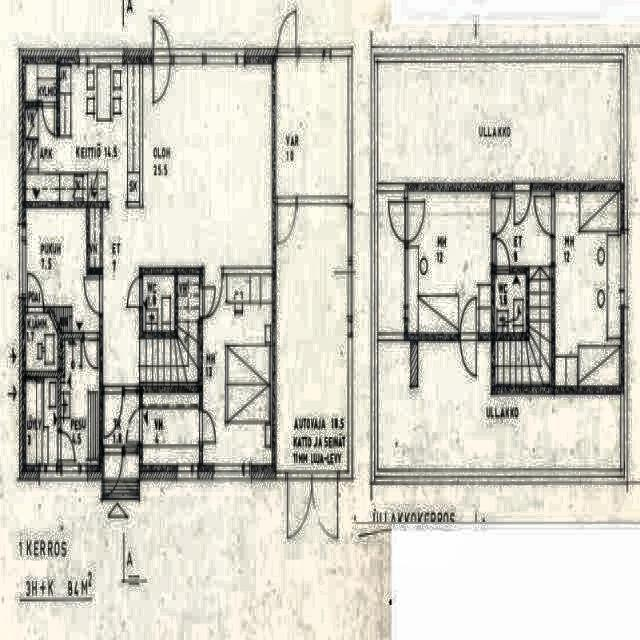room: (378, 341, 620, 469), (378, 63, 620, 183), (276, 205, 348, 471), (26, 64, 139, 201), (203, 277, 272, 465), (555, 191, 620, 386), (409, 192, 491, 333), (276, 57, 348, 196), (26, 208, 99, 332), (61, 341, 99, 464), (143, 392, 199, 465), (378, 192, 404, 333), (26, 377, 58, 463), (103, 394, 139, 445), (26, 314, 58, 371), (495, 275, 526, 332), (143, 276, 174, 331), (26, 64, 56, 102), (104, 455, 139, 479)
